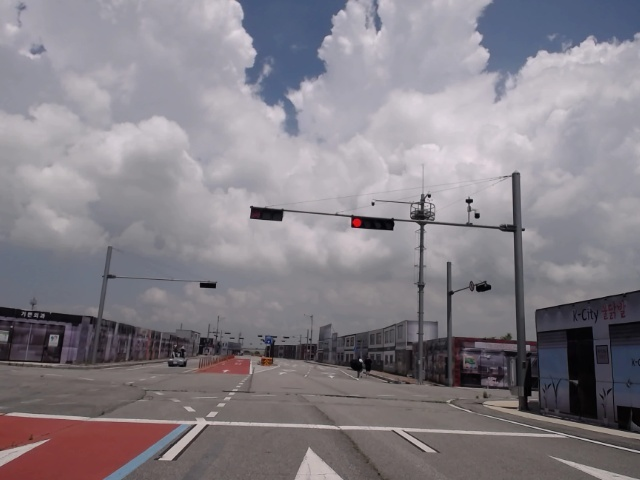red_4: (352, 216, 394, 231)
